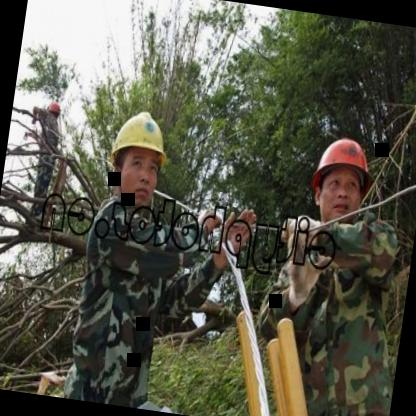helmet: (98, 98, 180, 212), (300, 124, 382, 233)
